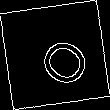O_NW: (21, 22, 89, 88)
